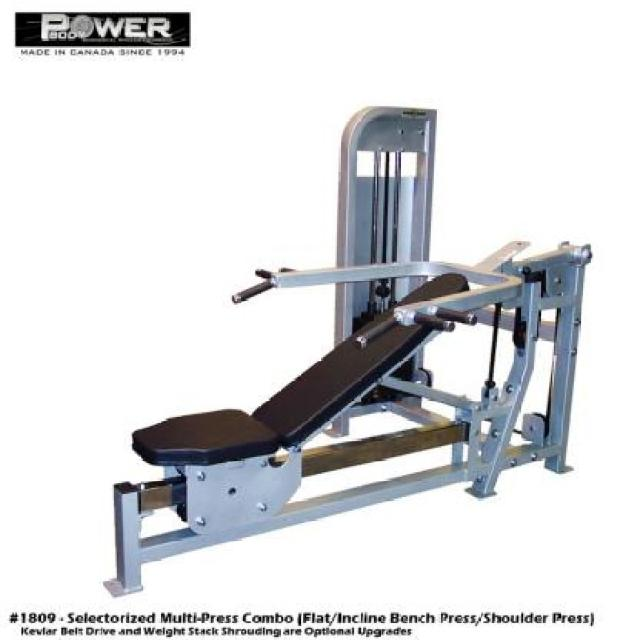shoulder press machine: (52, 103, 605, 602)
